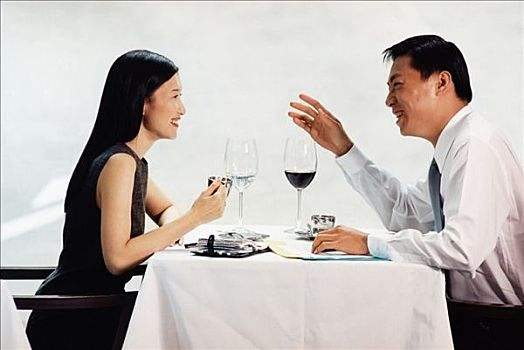no-phone: (286, 92, 349, 153)
